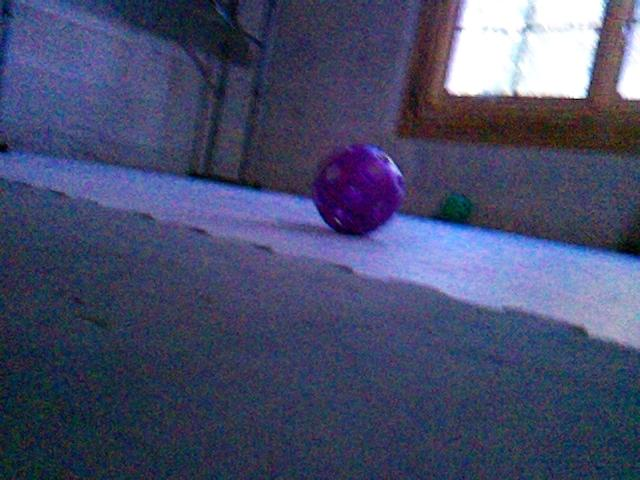Green: (440, 193, 474, 224)
Purple: (307, 142, 407, 239)
